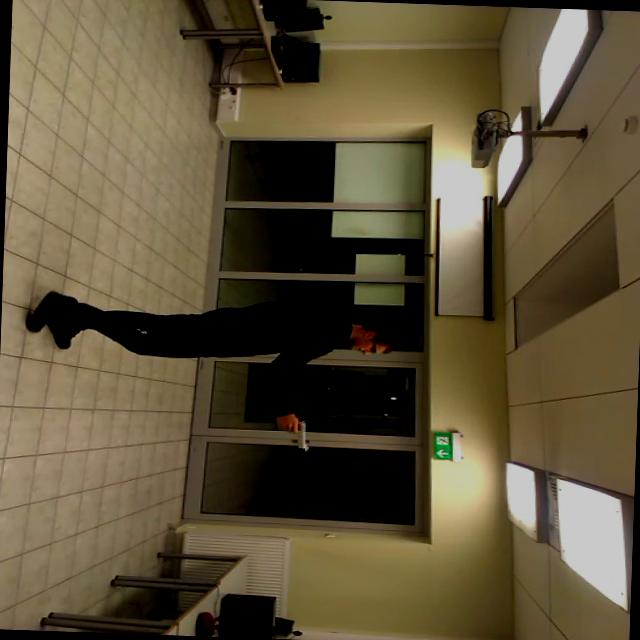handgun: (270, 417, 312, 453)
